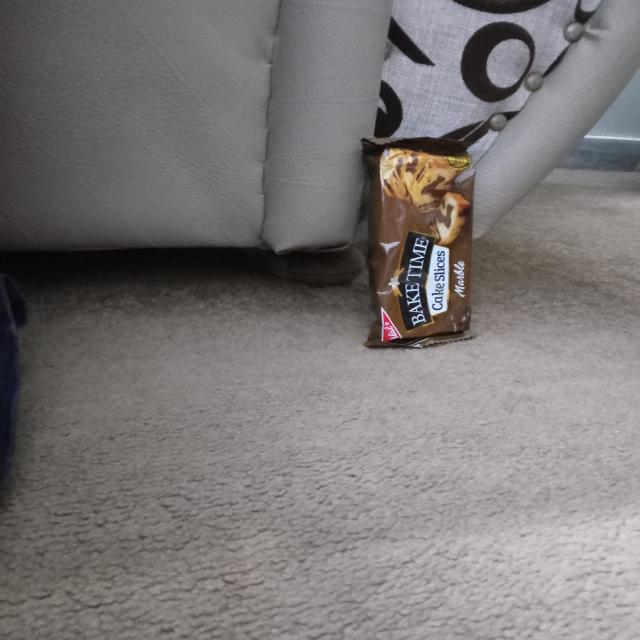Plastic: (362, 134, 479, 352)
